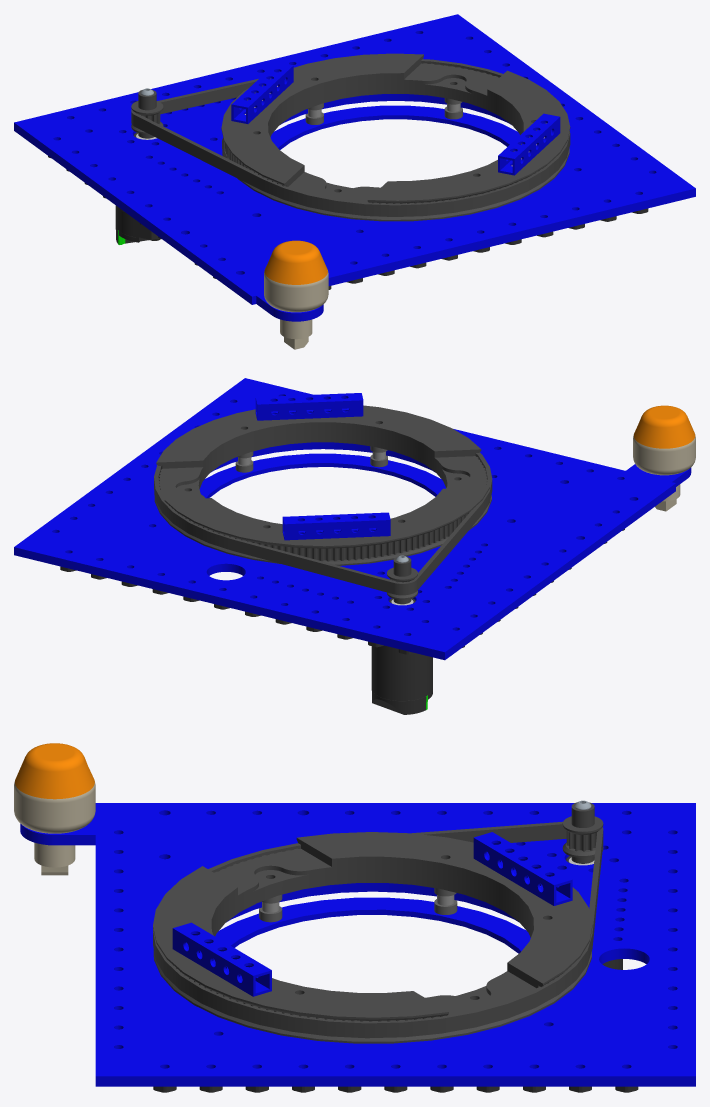
File: turret.glb
The picture shows the model from 3 angles, top to bottom: view 1: azimuth 30°, elevation 25°; view 2: azimuth 150°, elevation 25°; view 3: azimuth 270°, elevation 25°; orthographic projection. The views are drawn at different scales.
Visible parts, largest first — view 1: 26B-0503-TOP PLATE, 26B-0502-150T HTD Pulley, 165t HTD 9mm wide 5mm belt, Robot Signal Light (RSL) (Allen Bradley), 26B-0507-Tube 0.5"x0.5"x3" (×2), 26B-0505-LOWER PLATE, Kraken X44 Brushless Motor, 26B-0501-12T HTD Pulley; view 2: 26B-0503-TOP PLATE, 26B-0502-150T HTD Pulley, 165t HTD 9mm wide 5mm belt, 26B-0507-Tube 0.5"x0.5"x3" (×2), Robot Signal Light (RSL) (Allen Bradley), Kraken X44 Brushless Motor, 26B-0505-LOWER PLATE, 26B-0501-12T HTD Pulley; view 3: 26B-0503-TOP PLATE, 26B-0502-150T HTD Pulley, 165t HTD 9mm wide 5mm belt, Robot Signal Light (RSL) (Allen Bradley), 26B-0507-Tube 0.5"x0.5"x3" (×2), 26B-0505-LOWER PLATE, 26B-0501-12T HTD Pulley.
Boxes of the visible parts, x1,y1,x2,y2 form: 26B-0503-TOP PLATE: (14, 14, 695, 321); 26B-0502-150T HTD Pulley: (221, 53, 570, 221); 165t HTD 9mm wide 5mm belt: (131, 59, 570, 216); Robot Signal Light (RSL) (Allen Bradley): (264, 240, 328, 349); 26B-0507-Tube 0.5"x0.5"x3" (×2): (231, 62, 560, 175); 26B-0505-LOWER PLATE: (270, 105, 519, 149); Kraken X44 Brushless Motor: (115, 132, 161, 244); 26B-0501-12T HTD Pulley: (131, 90, 163, 138); 26B-0503-TOP PLATE: (14, 378, 691, 660); 26B-0502-150T HTD Pulley: (154, 405, 491, 565); 165t HTD 9mm wide 5mm belt: (154, 452, 492, 595); 26B-0507-Tube 0.5"x0.5"x3" (×2): (255, 393, 390, 540); Robot Signal Light (RSL) (Allen Bradley): (633, 405, 695, 511); Kraken X44 Brushless Motor: (371, 598, 432, 714); 26B-0505-LOWER PLATE: (199, 453, 446, 498); 26B-0501-12T HTD Pulley: (387, 557, 417, 604); 26B-0503-TOP PLATE: (20, 803, 695, 1086); 26B-0502-150T HTD Pulley: (153, 832, 592, 1043); 165t HTD 9mm wide 5mm belt: (153, 821, 603, 1038); Robot Signal Light (RSL) (Allen Bradley): (14, 743, 95, 875); 26B-0507-Tube 0.5"x0.5"x3" (×2): (172, 832, 572, 996); 26B-0505-LOWER PLATE: (215, 897, 530, 953); 26B-0501-12T HTD Pulley: (562, 802, 603, 863).
Bounding box in the file's own units: 0.3556 × 0.1222 × 0.3751.
